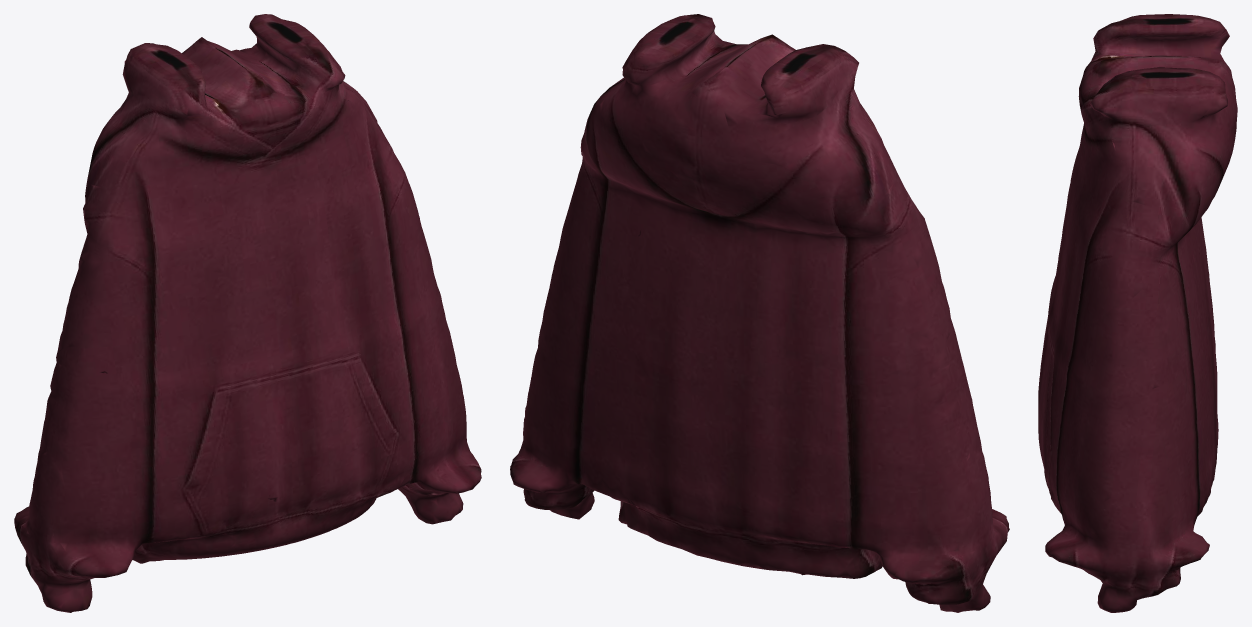
The model's file is wine-product.glb.
3 renders of one model, left to right at view 1: azimuth 30°, elevation 25°; view 2: azimuth 150°, elevation 25°; view 3: azimuth 270°, elevation 25°, orthographic. The views are drawn at different scales.
Parts seen in each view (by area): view 1: geometry_0; view 2: geometry_0; view 3: geometry_0.
Part boxes in pixels (<box>): geometry_0: <box>14,14,481,612</box>; geometry_0: <box>510,14,1009,612</box>; geometry_0: <box>1038,14,1237,612</box>.
Size of the model in its own units: 0.6616 by 0.7484 by 0.2827.
1 material, 1 textured.
